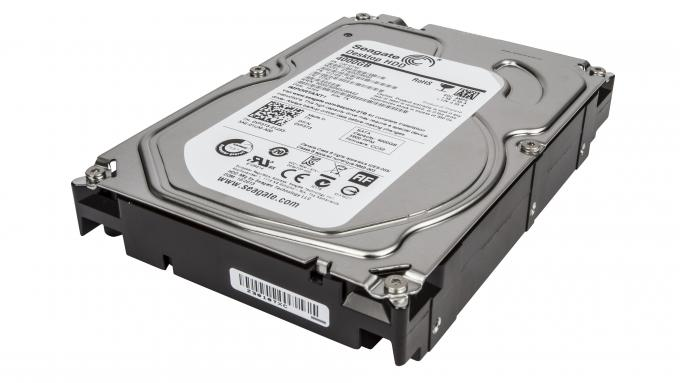seagate-hdd-240gb: (67, 14, 625, 358)
